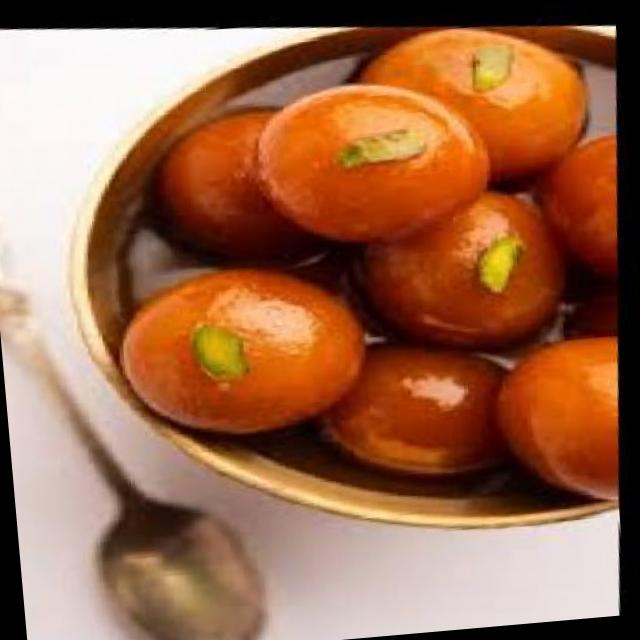gulab_jamun: (115, 246, 378, 444), (247, 59, 502, 252), (342, 4, 596, 190), (354, 166, 580, 353), (144, 92, 343, 271), (317, 320, 524, 478), (488, 321, 634, 498), (526, 120, 628, 270)
